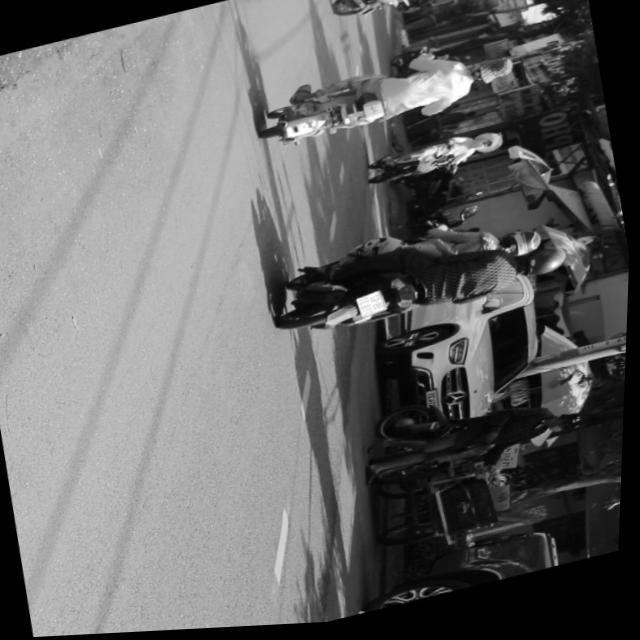helmet: (516, 249, 573, 288), (500, 231, 547, 267), (554, 416, 588, 438)
licenseplate: (268, 201, 581, 354), (252, 39, 521, 162)
motorcyclist: (469, 61, 516, 94)
nohelmet: (357, 295, 390, 323)
